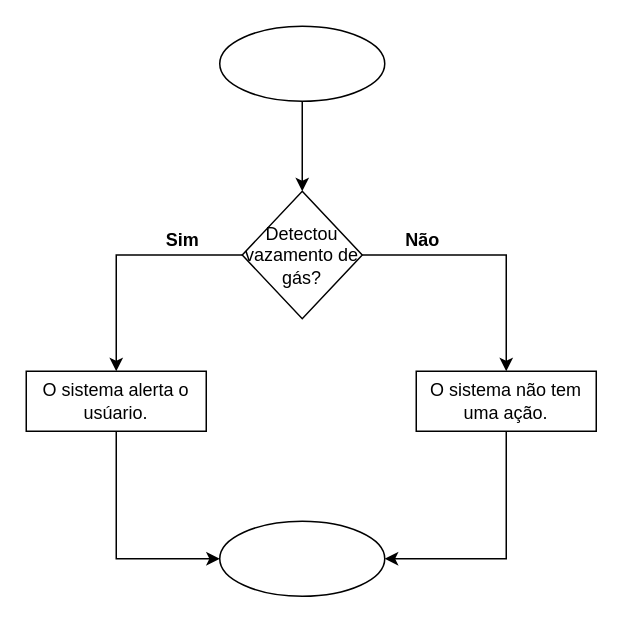
Some shapes in this 623 by 623 pixel diagram are drawn without their labels. Here are the shapes that lost their labels. From the top down, the centre of each, then its label:
(x=301, y=63): Inicio
(x=301, y=558): Fim
